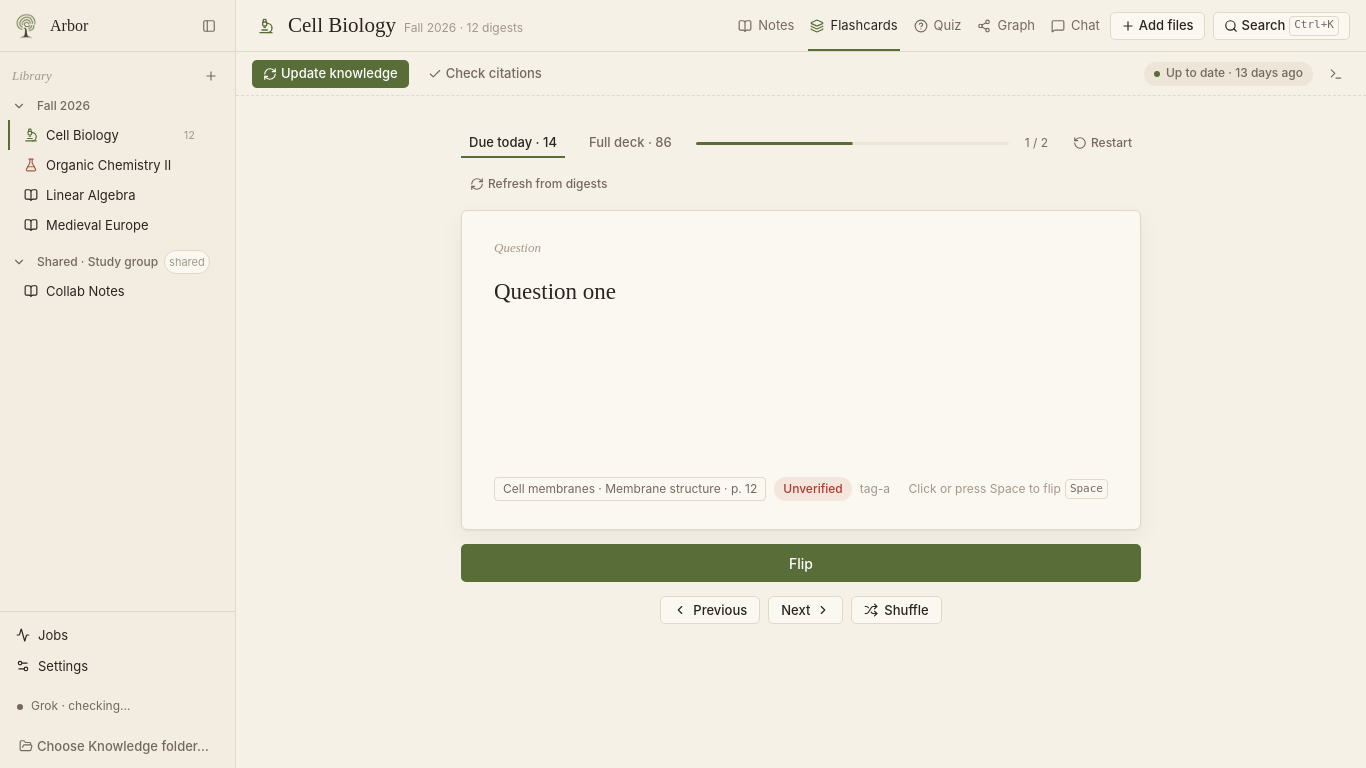
Test: flashcards PR8 › shows unverified badge from citations fixture
Expected: the element with test id "flashcards-view" is shown, top-left (461, 128), bottom-right (1141, 624)
Expected: the tab "Due today · 14" is shown, top-left (461, 128), bottom-right (565, 158)
Hover over the text "Unverified": x=813, y=489 top-left (774, 477), bottom-right (852, 501)
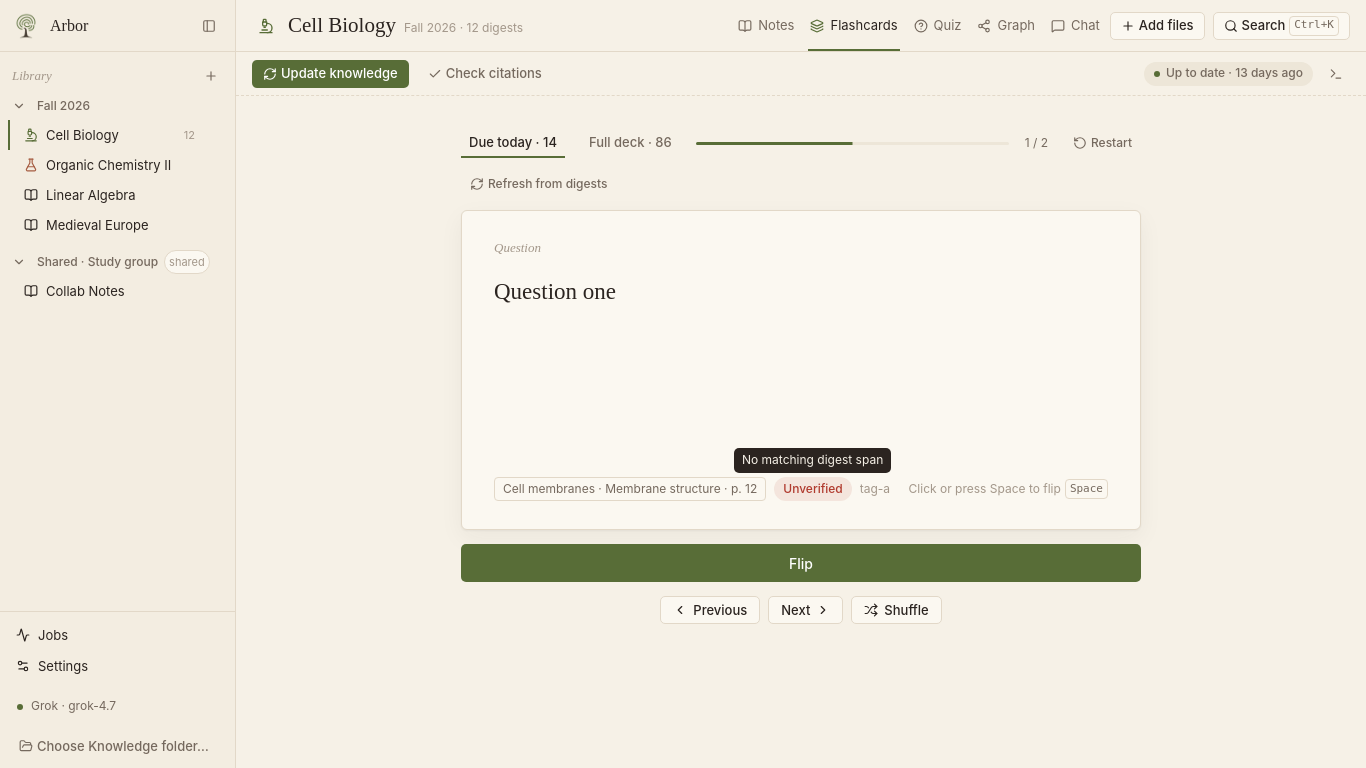
Now the text "No matching digest span" is shown, box top-left (734, 448), bottom-right (891, 473)
